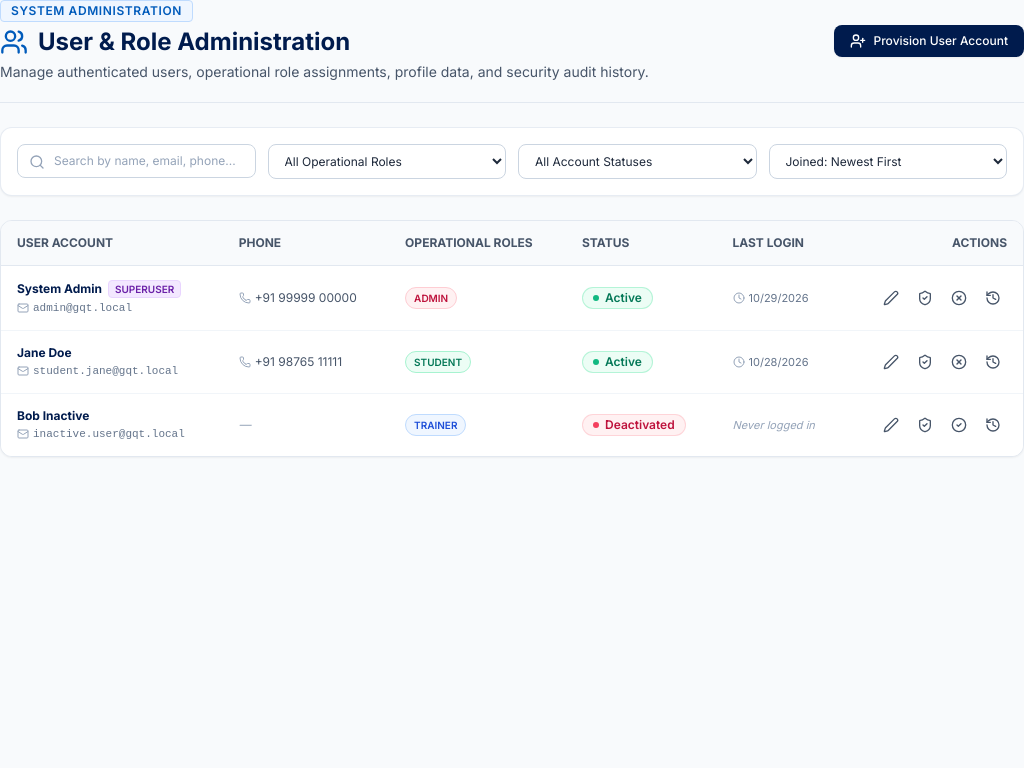
Test: UserManagementPage — Phase 15 Workstream 2 Verification › opens provision user account modal and submits valid creation payload
This screenshot has width=1024, height=768.
Open modal
Click the button "Provision User Account": (929, 41) [834,25,1023,57]
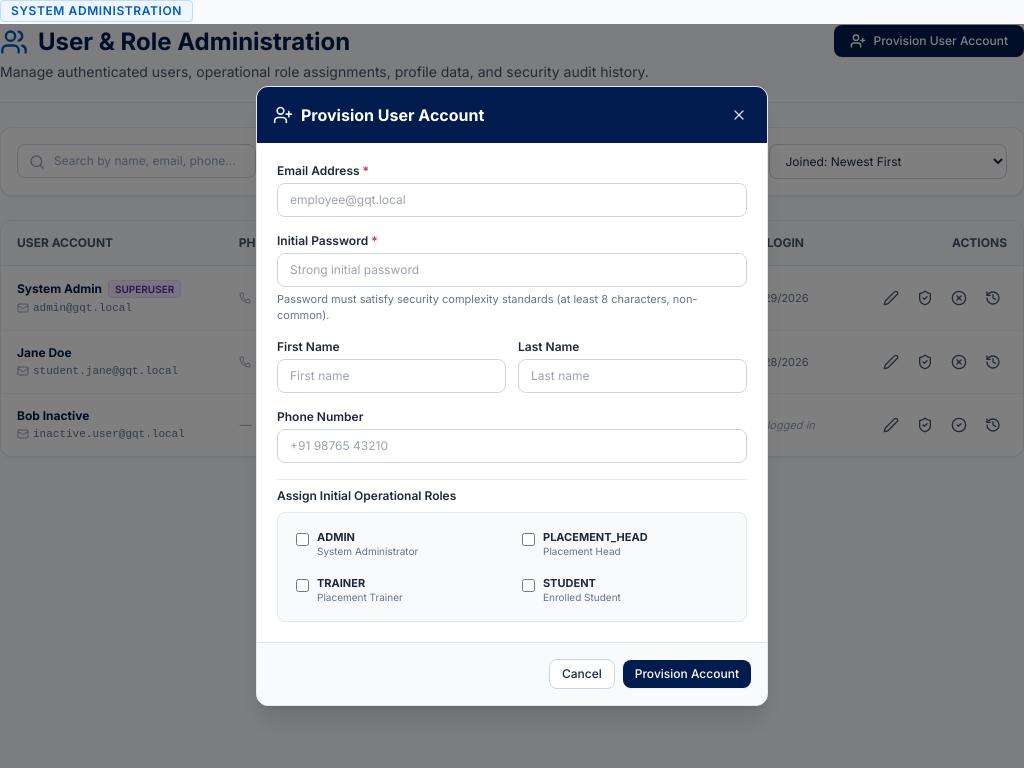
Now the heading "Provision User Account" is shown, box [301,103,484,127]
Fill form
In the field with placeholder "employee@gqt.local": (512, 200) [277,183,747,217], type "new.member@gqt.local"
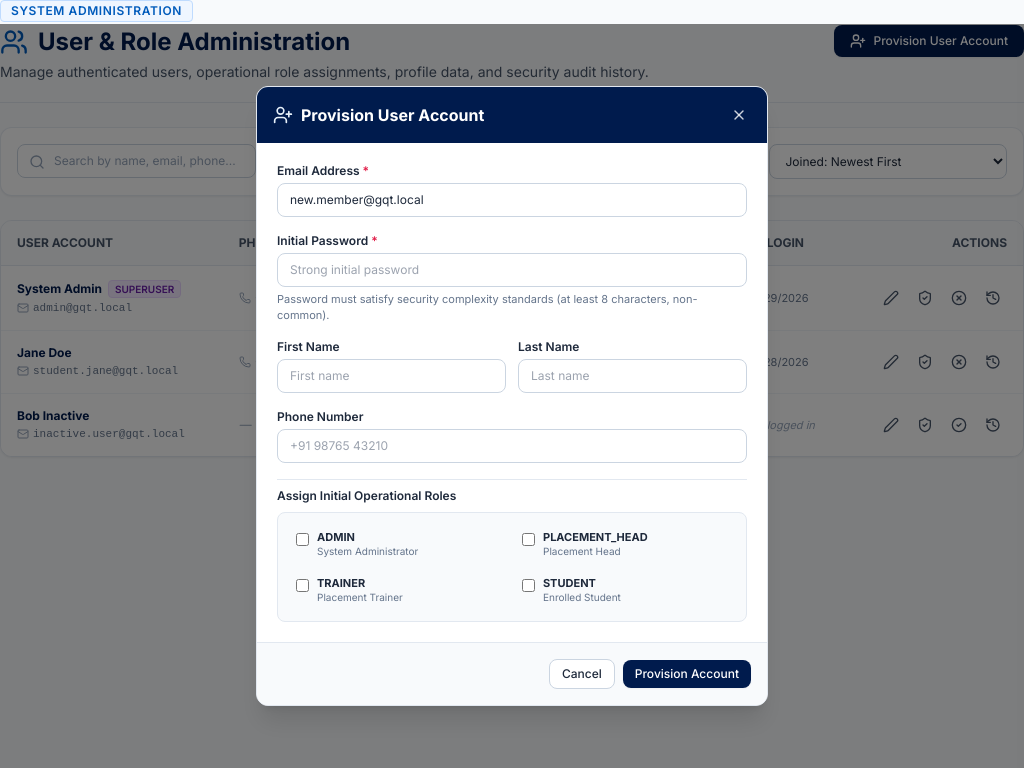
In the password field with placeholder "Strong initial password": (512, 270) [277,253,747,287], type "SecureP@ssw0rd123!"
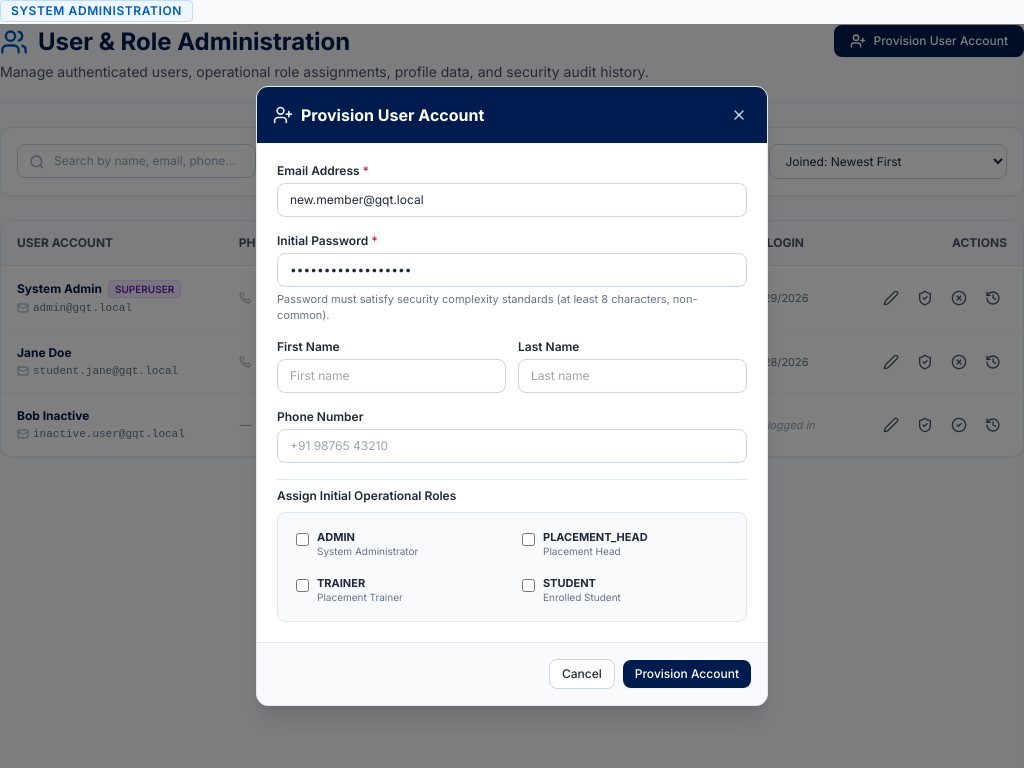
In the field with placeholder "First name": (392, 376) [277,359,506,393], type "New"
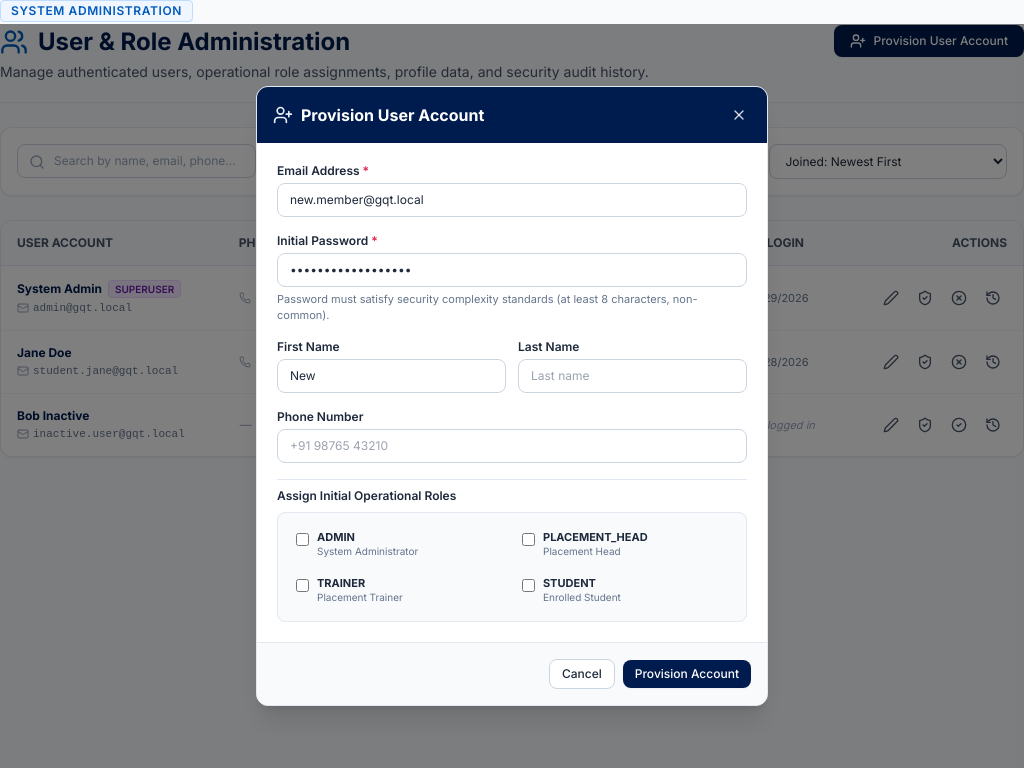
In the field with placeholder "Last name": (632, 376) [518,359,747,393], type "Member"
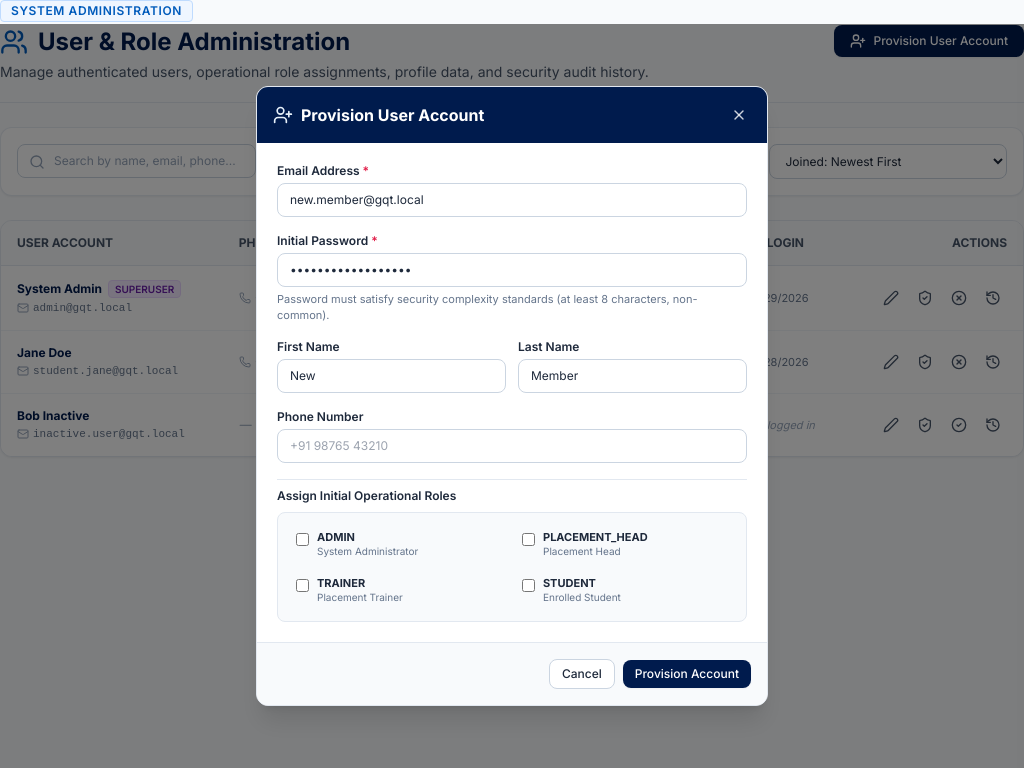
Click submit
Click the button "Provision Account": (687, 674) [623,660,751,688]
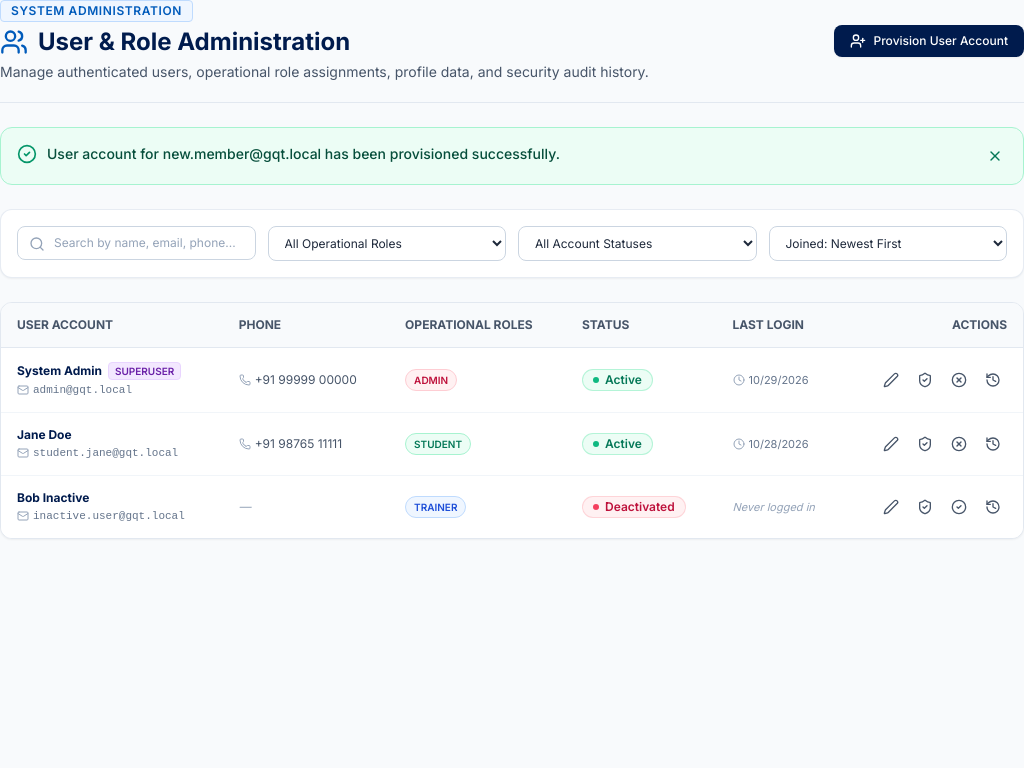
Now the text "has been provisioned successfully" is shown, box [47,145,560,162]
